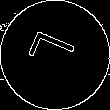L_SE: (26, 31, 84, 79)
